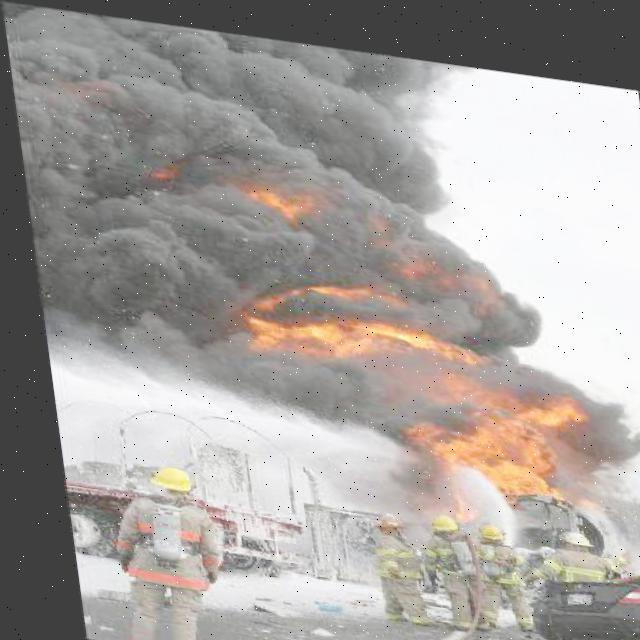Fire: (188, 125, 607, 540)
